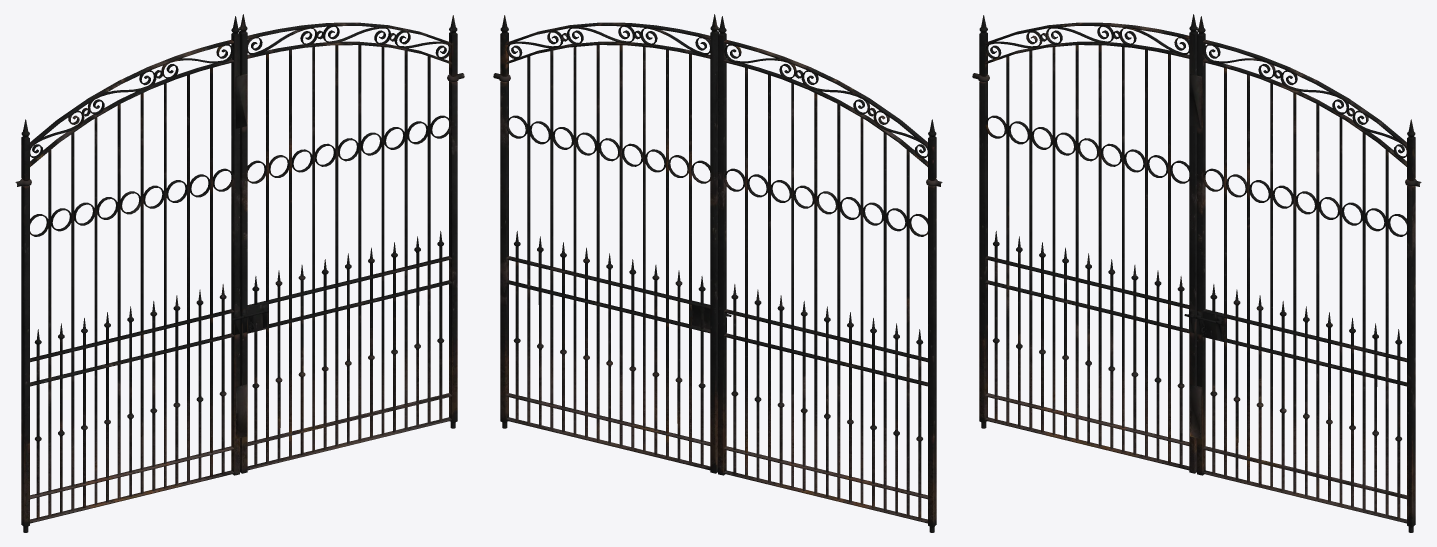
Rendered from large_iron_gate.glb.
3 views of the same model, side by side, from view 1: azimuth 30°, elevation 25°; view 2: azimuth 150°, elevation 25°; view 3: azimuth 330°, elevation 25° (orthographic).
Visible parts, largest first — view 1: large_iron_gate_right_door; view 2: large_iron_gate_right_door; view 3: large_iron_gate_right_door.
Part boxes in pixels (x1,y1,x2,y2): large_iron_gate_right_door: [15, 14, 464, 532]; large_iron_gate_right_door: [493, 14, 942, 532]; large_iron_gate_right_door: [972, 14, 1421, 532].
Size of the model in its own units: 2.95 by 2.93 by 0.0974.
1 material, 1 textured.
